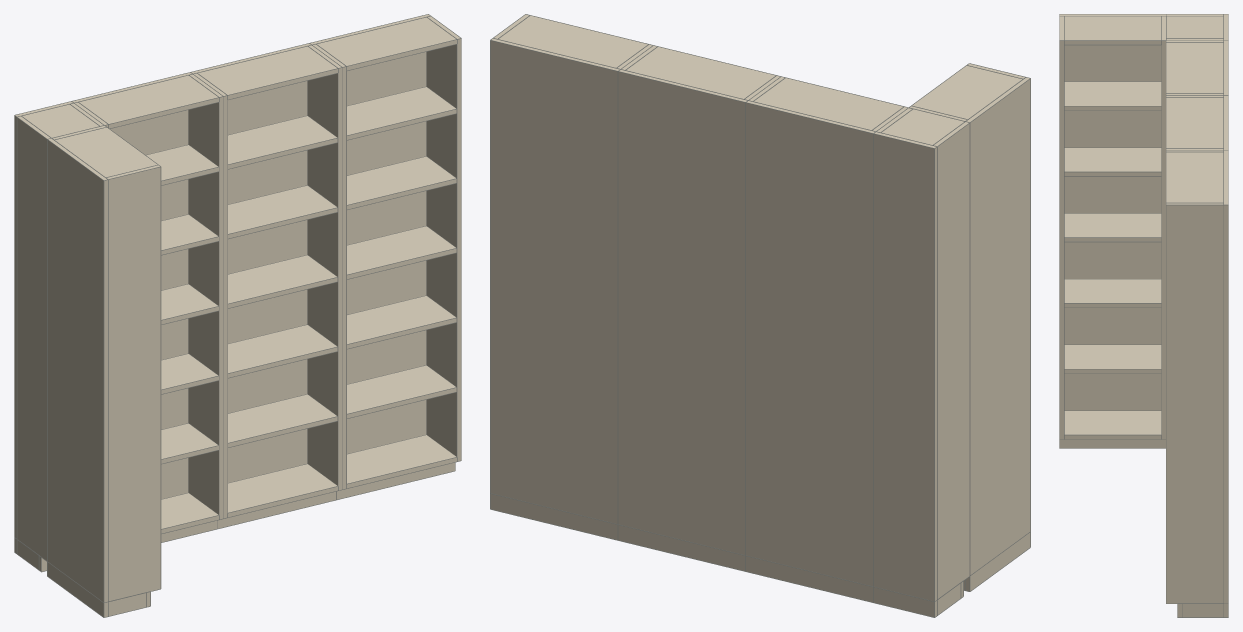
The model's file is modell.glb.
3 renders of one model, left to right at view 1: azimuth 30°, elevation 25°; view 2: azimuth 150°, elevation 25°; view 3: azimuth 270°, elevation 25°, orthographic. The views are drawn at different scales.
Bounding box in the file's own units: 2185 × 2204 × 819.
